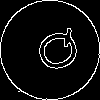Q: (25, 25, 84, 79)
